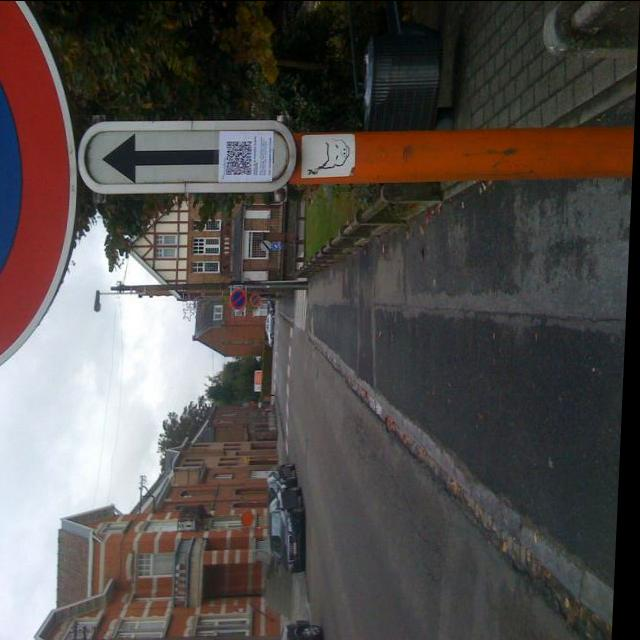qrcode: (228, 142, 254, 175)
